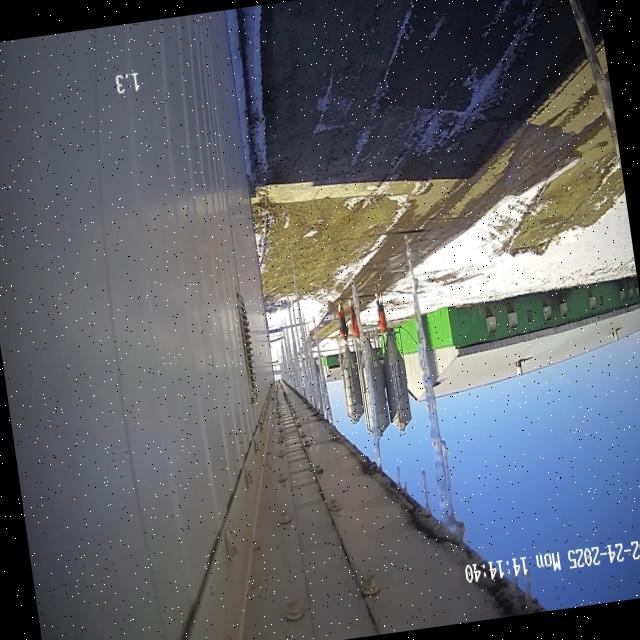Red uniform: (375, 293, 388, 336), (337, 299, 349, 343), (351, 305, 360, 340)
